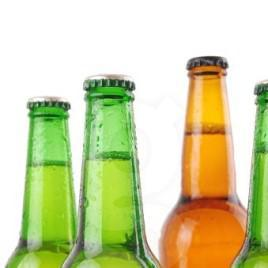beer: (4, 54, 268, 266)
